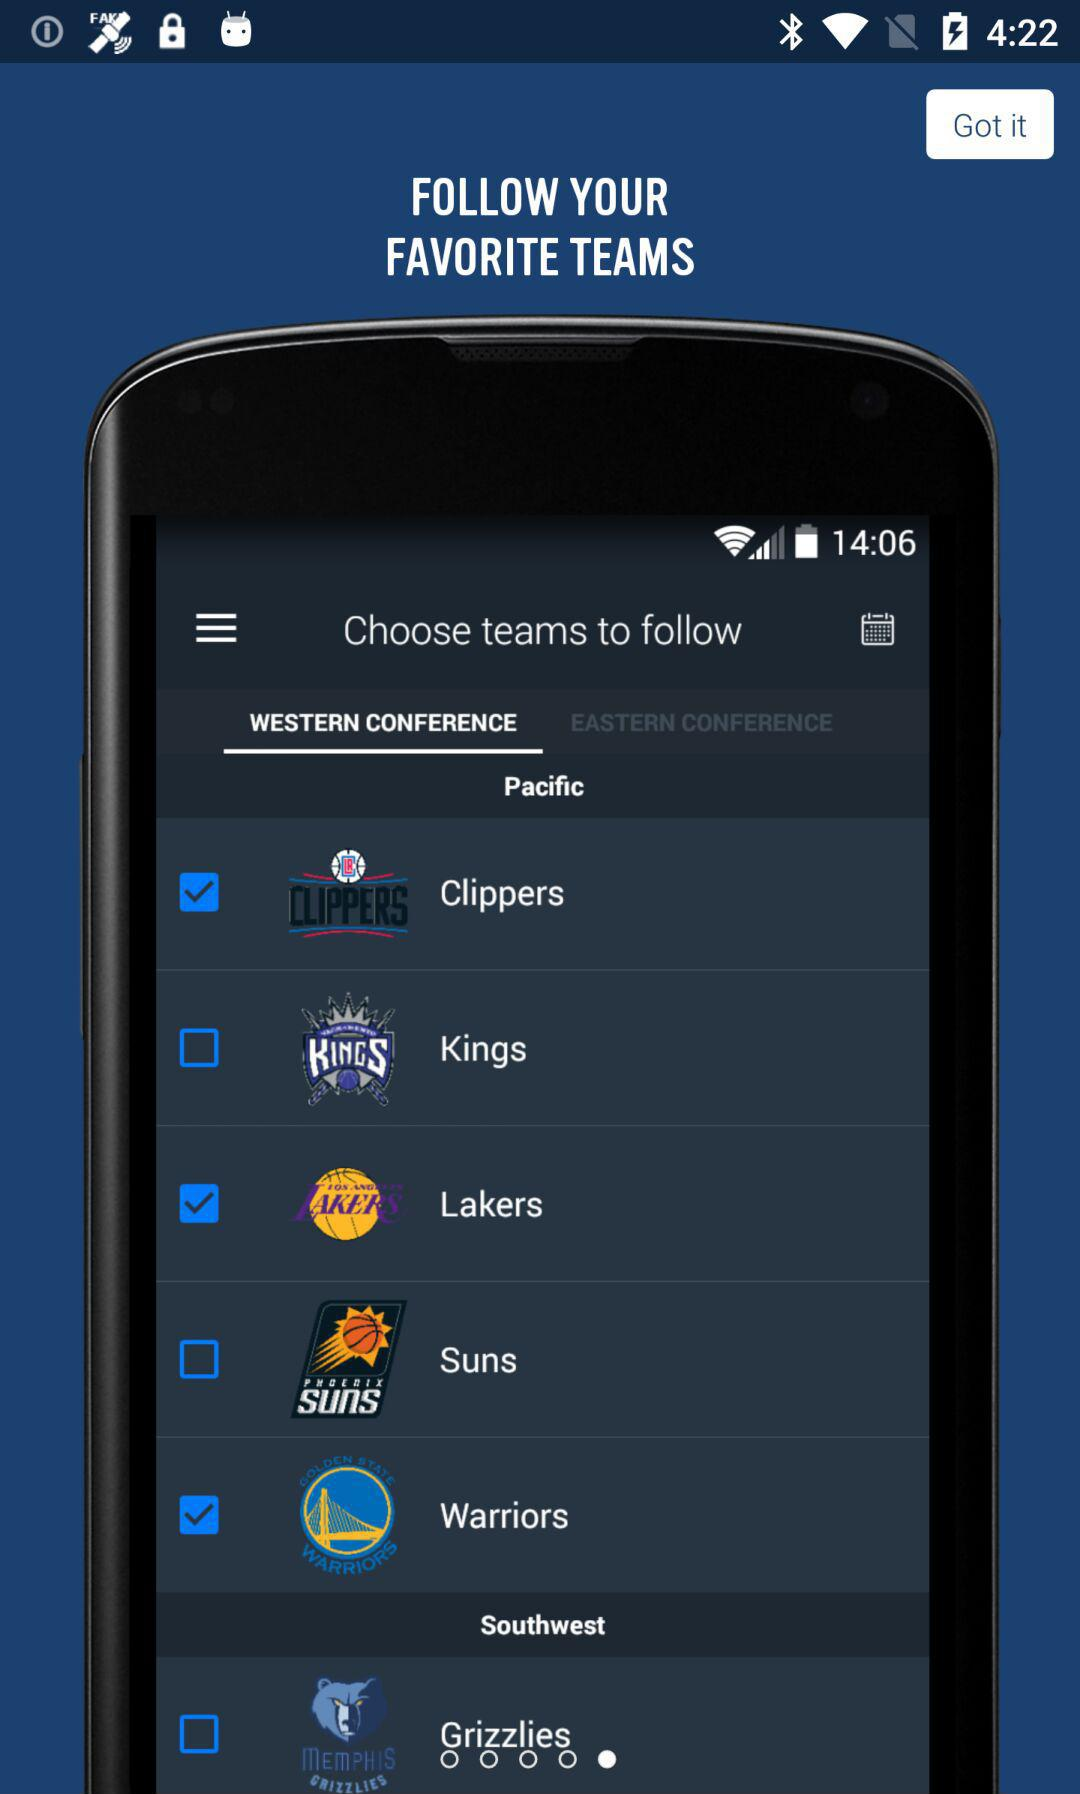Image: (79, 314, 1003, 1794)
PageIndicator: (439, 1749, 619, 1768)
Text: (387, 177, 694, 277)
TextButton: (925, 88, 1054, 161)
UpperTaskBar: (1, 1, 1080, 64)
